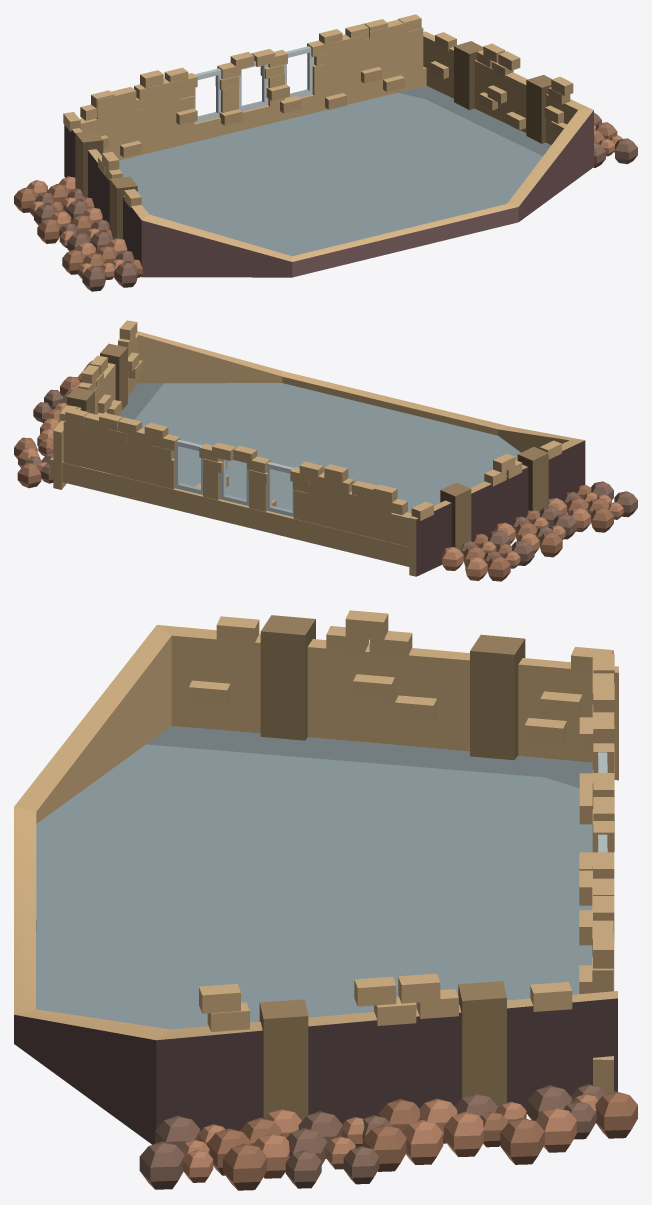
Rendered from Base Adjusted.fbx.
3 renders of one model, top to bottom at view 1: azimuth 30°, elevation 25°; view 2: azimuth 150°, elevation 25°; view 3: azimuth 270°, elevation 25°, orthographic. The views are drawn at different scales.
Visible parts, largest first — view 1: pCylinder1, pPipe1, pCube17, UpradeB1, UpradeB2, UpradeA2, UpradeA1, pCube18, pCube19, pCube4, pCube1, pCube70 (+12 smaller); view 2: pCylinder1, pPipe1, pCube17, UpradeB2, UpradeB1, UpradeA2, pCube4, UpradeA1, pCube1, pCube19, pCube72, pCube70 (+19 smaller); view 3: pCylinder1, pPipe1, pCube4, pCube1, pCube18, pCube19, pSphere40, pSphere49, pSphere38, pSphere64, pSphere65, pSphere45 (+29 smaller).
Part boxes in pixels (x1,y1,x2,y2): pCylinder1: [119, 85, 551, 256]; pPipe1: [64, 31, 593, 277]; pCube17: [103, 67, 426, 160]; UpradeB1: [96, 87, 136, 147]; UpradeB2: [369, 19, 408, 78]; UpradeA2: [329, 34, 366, 93]; UpradeA1: [148, 78, 180, 137]; pCube18: [454, 41, 483, 109]; pCube19: [526, 75, 551, 143]; pCube4: [75, 130, 103, 197]; pCube1: [109, 176, 137, 239]; pCube70: [407, 27, 423, 72]; pCylinder1: [69, 383, 520, 566]; pPipe1: [53, 331, 585, 576]; pCube17: [49, 457, 409, 566]; UpradeB2: [78, 413, 117, 473]; UpradeB1: [352, 480, 391, 540]; UpradeA2: [121, 428, 156, 484]; pCube4: [440, 482, 471, 551]; UpradeA1: [307, 472, 338, 529]; pCube1: [517, 447, 548, 511]; pCube19: [100, 343, 127, 409]; pCube72: [385, 512, 411, 546]; pCube70: [63, 420, 79, 466]; pCylinder1: [36, 726, 592, 1029]; pPipe1: [14, 625, 618, 1144]; pCube4: [470, 634, 525, 760]; pCube1: [260, 615, 315, 740]; pCube18: [458, 981, 506, 1108]; pCube19: [259, 999, 308, 1120]; pSphere40: [139, 1141, 184, 1189]; pSphere49: [500, 1117, 544, 1164]; pSphere38: [223, 1143, 266, 1190]; pSphere64: [595, 1091, 637, 1138]; pSphere65: [444, 1111, 483, 1156]; pSphere45: [402, 1119, 443, 1164].
Bounding box in the file's own units: 18.69 × 2.94 × 9.78.
